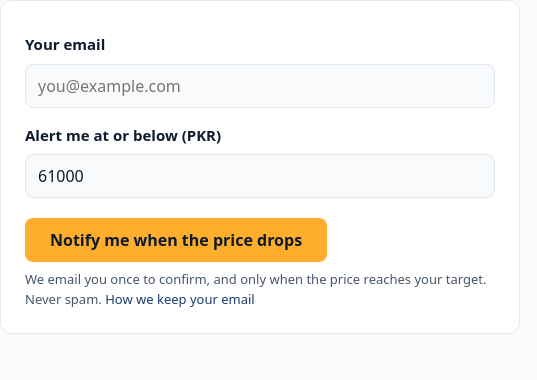
AlertForm › shows the server's limit message (for example too many alerts waiting) and keeps what was typed
Type "a@b.co" into the field labelled "Your email" at (260,86), box [25,64,495,108]
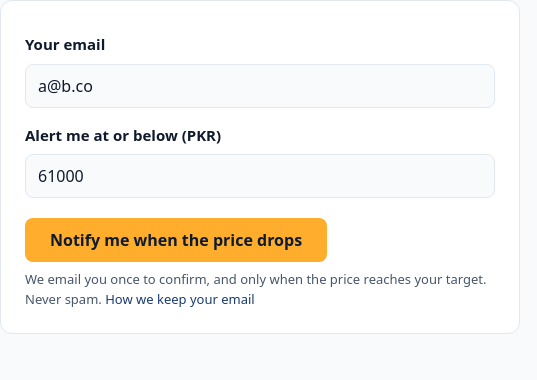
Replace the text in the number field labelled "Alert me at or below (PKR)" with "60000" at (260,176), box [25,154,495,198]
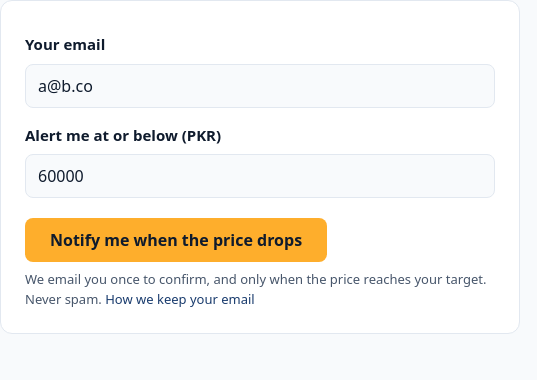
Click the button "Notify me when the price drops" at (176,240), box [25,218,327,262]
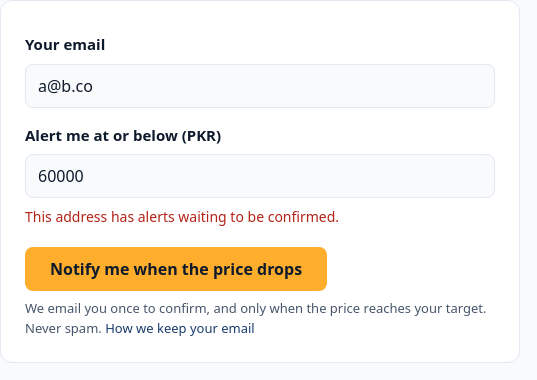
Check: the message reads "This address has alerts waiting to be confirmed.", box [25,207,339,226]
